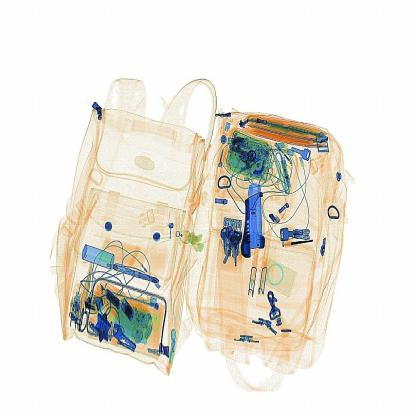pliers: (240, 177, 270, 258)
